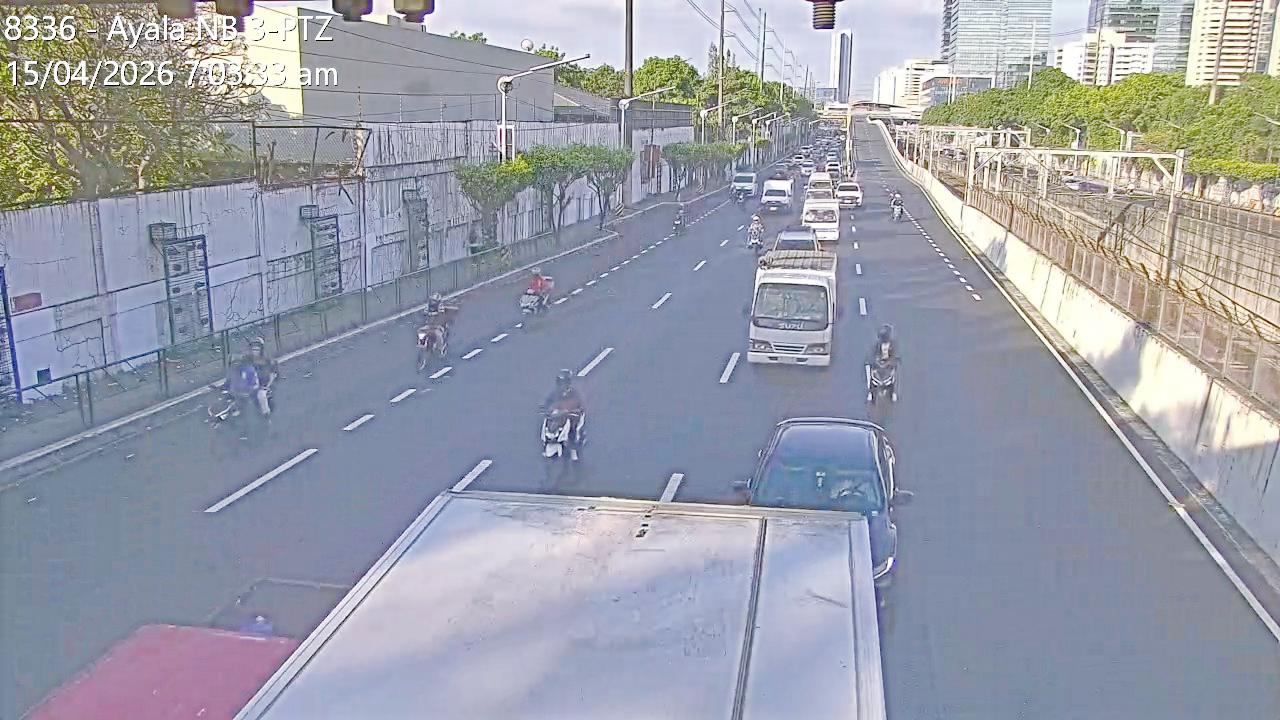Car: (734, 416, 914, 608), (797, 198, 841, 243), (759, 178, 794, 212), (730, 170, 757, 210), (730, 171, 759, 204), (834, 181, 863, 207), (806, 172, 833, 196)
Motor: (206, 358, 279, 455), (537, 403, 586, 486), (414, 303, 457, 372), (864, 345, 901, 415), (520, 265, 554, 318), (744, 214, 764, 250), (668, 207, 686, 237), (891, 195, 905, 219), (738, 185, 749, 210)
Not Accident: (726, 160, 792, 264), (800, 170, 853, 245), (859, 324, 901, 409), (514, 255, 556, 328)
